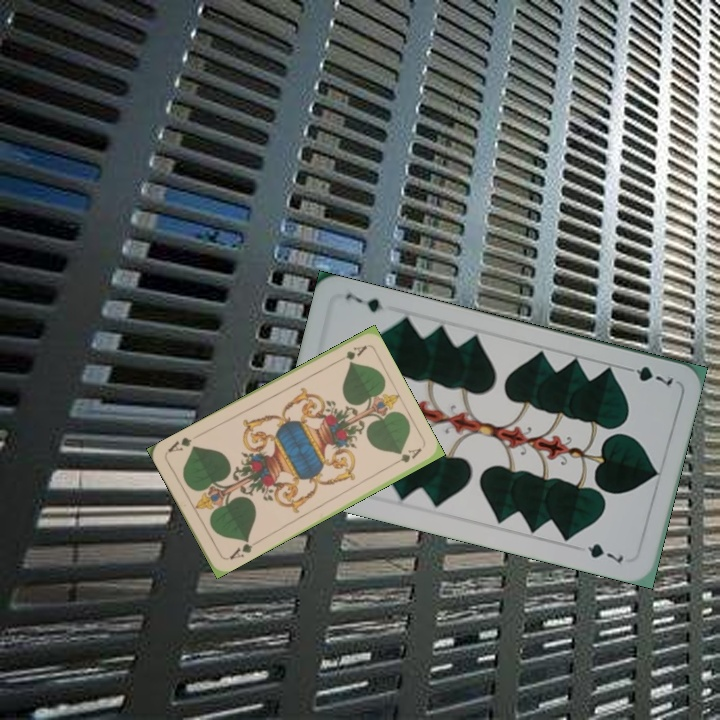G7: (619, 362, 676, 389)
GA: (222, 535, 260, 562), (331, 341, 369, 366)
